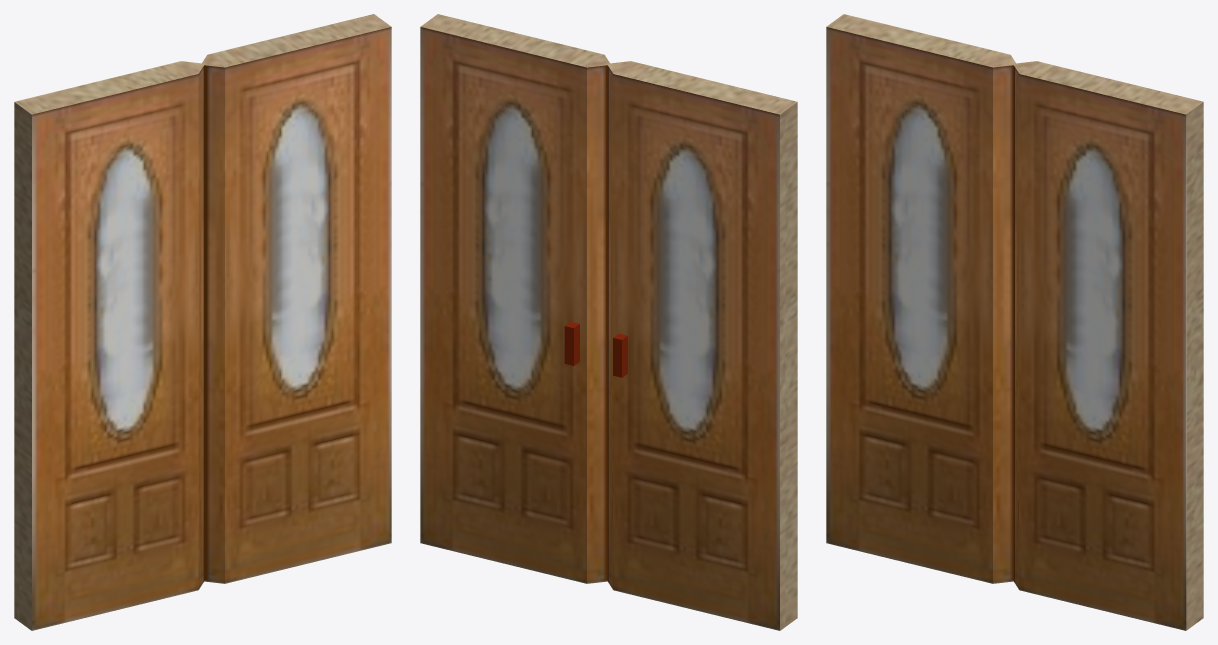
The model's file is DoorDoubleIns.fbx.
3 renders of one model, left to right at view 1: azimuth 30°, elevation 25°; view 2: azimuth 150°, elevation 25°; view 3: azimuth 330°, elevation 25°, orthographic.
Visible parts, largest first — view 1: DoorWide_2m75; view 2: DoorWide_2m75, Handle; view 3: DoorWide_2m75.
Boxes of the visible parts, box(x1,y1,x2,y2) form: DoorWide_2m75: box(14, 14, 391, 630); DoorWide_2m75: box(420, 14, 797, 630); Handle: box(564, 322, 627, 377); DoorWide_2m75: box(826, 14, 1203, 630).
Bounding box in the file's own units: 150 × 205 × 16.94.
2 materials, 1 textured.
